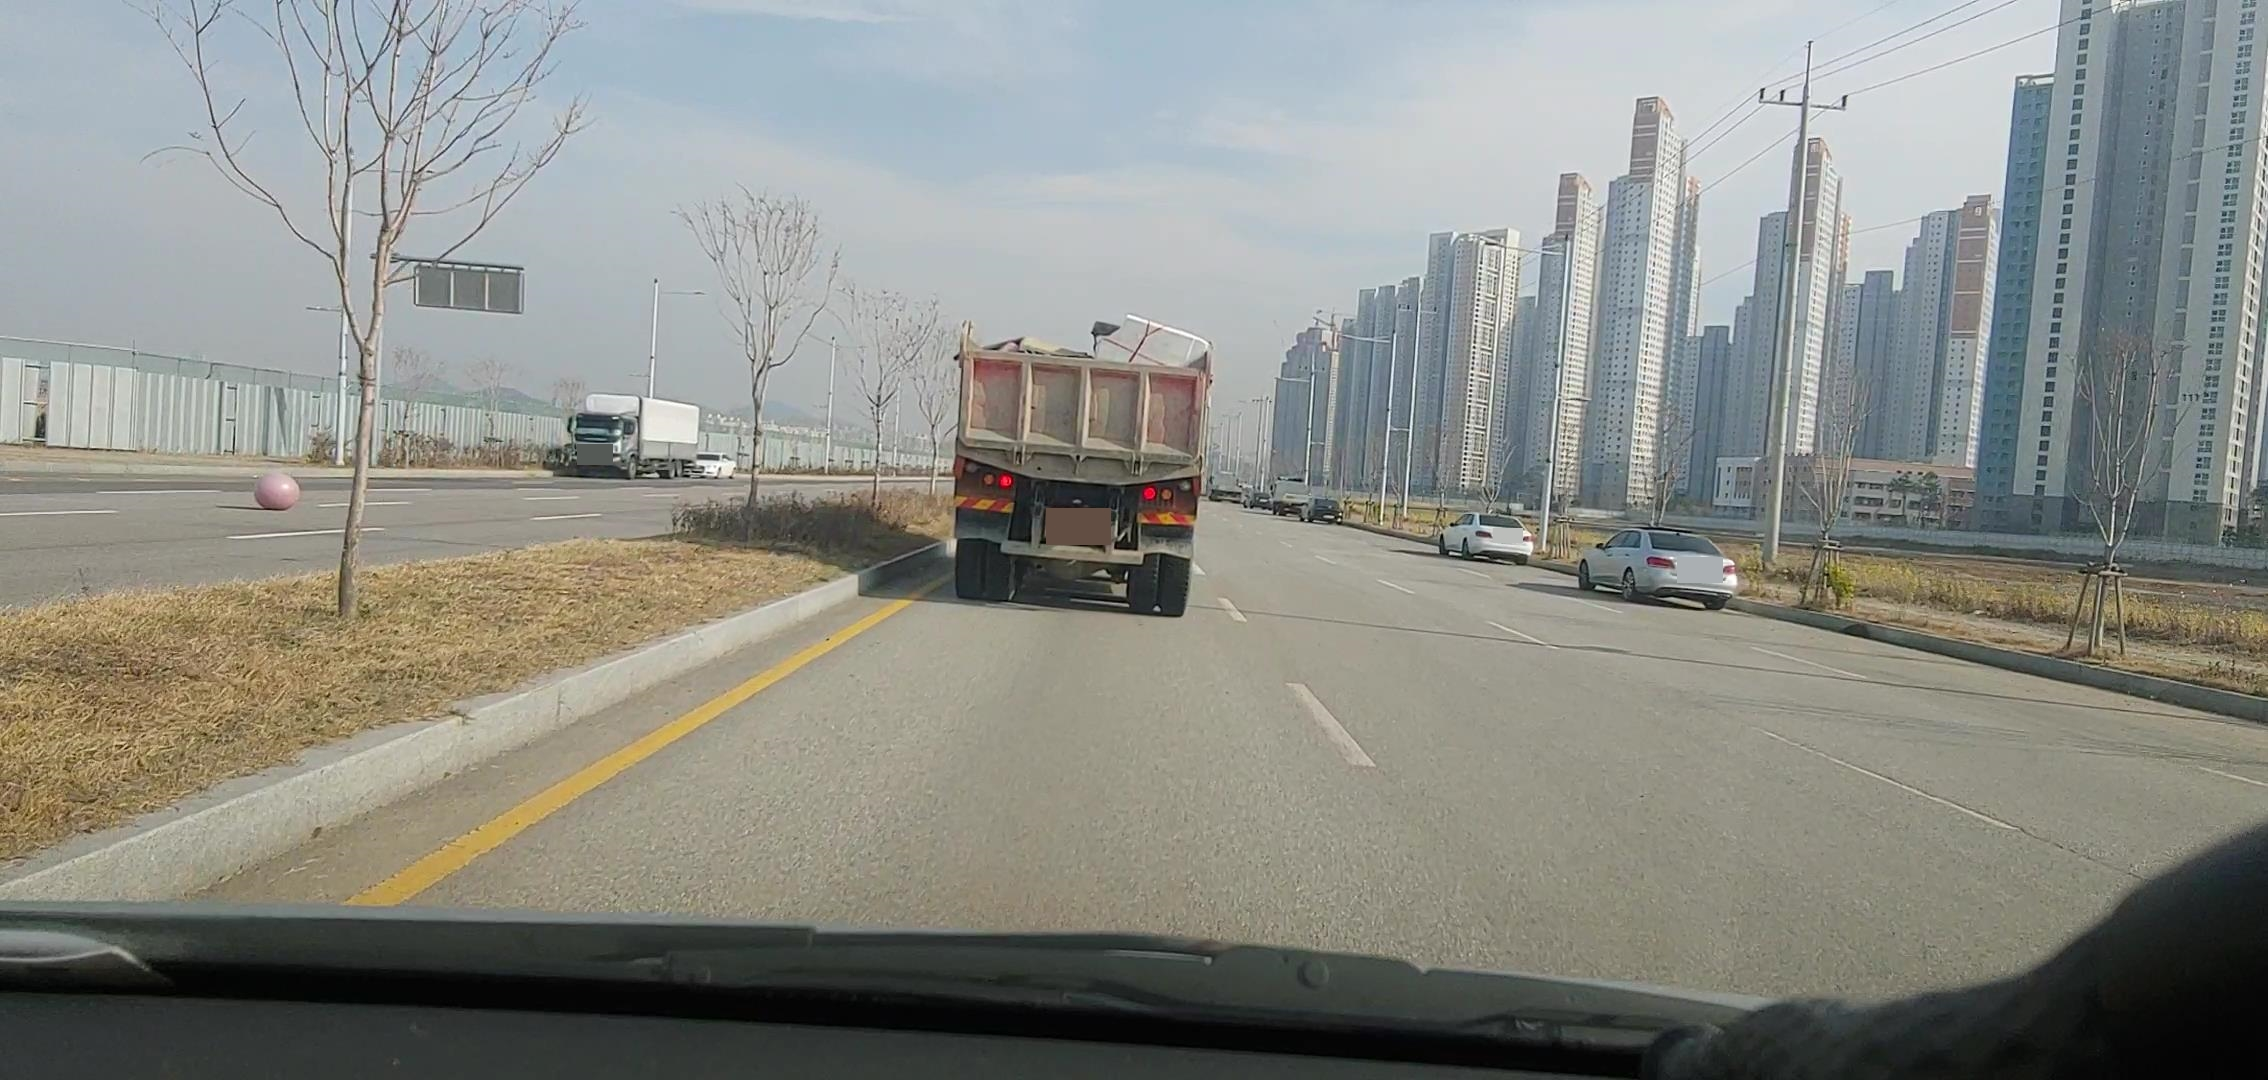불법차량: (948, 312, 1213, 616)
